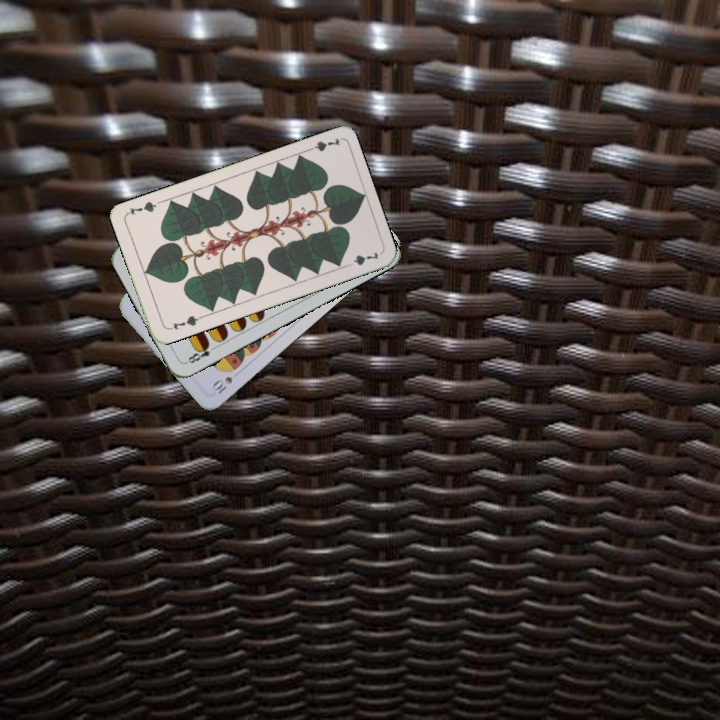E8: (182, 339, 220, 366)
G7: (164, 311, 203, 333), (301, 134, 342, 154)
S10: (207, 372, 235, 397)
